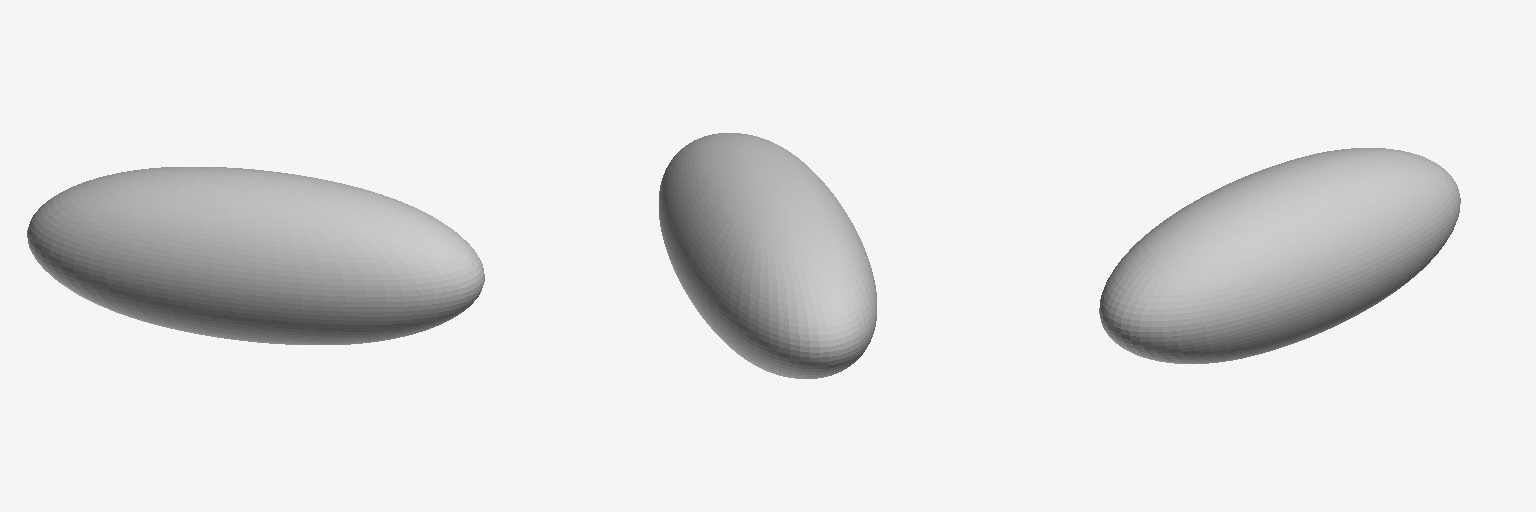
The model's file is nudo1-1.obj.
3 views of the same model, side by side, from view 1: azimuth 30°, elevation 25°; view 2: azimuth 150°, elevation 25°; view 3: azimuth 270°, elevation 25° (orthographic).
Visible parts, largest first — view 1: nudo1_1_Mesh; view 2: nudo1_1_Mesh; view 3: nudo1_1_Mesh.
Boxes of the visible parts, x1=… form: nudo1_1_Mesh: x1=27, y1=167, x2=484, y2=344; nudo1_1_Mesh: x1=659, y1=133, x2=876, y2=378; nudo1_1_Mesh: x1=1099, y1=148, x2=1460, y2=363.
Size of the model in its own units: 0.8203 by 0.3825 by 0.8203.